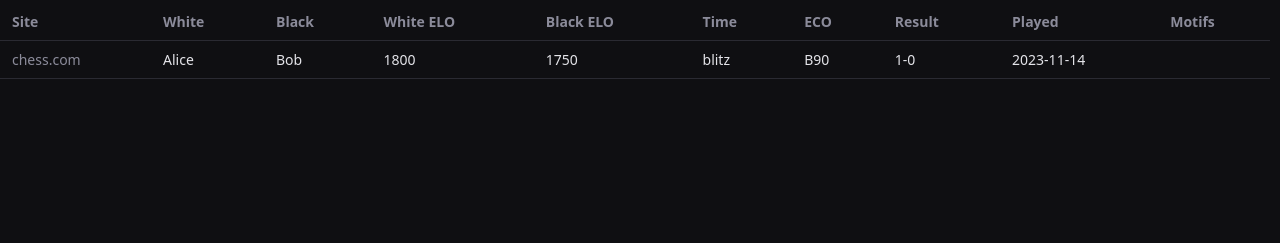
Test: GameResultsTable › returns focus to the toggle when the panel is closed
The width and height of the screenshot is (1280, 243).
Press Tab
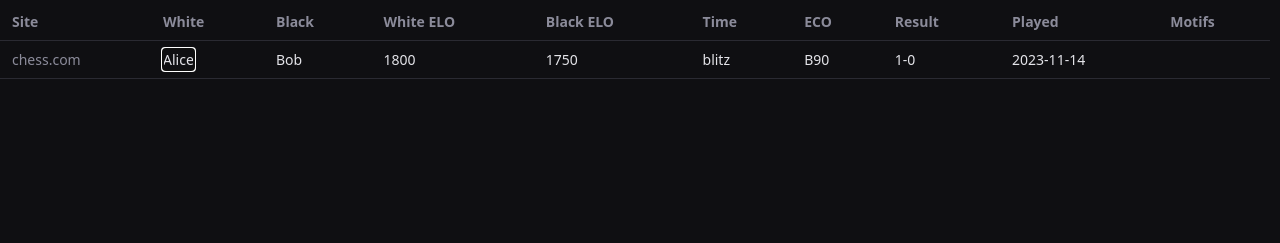
Press Enter
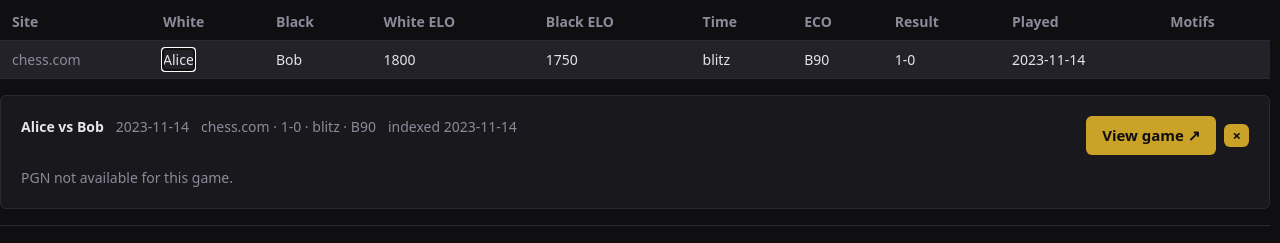
Click the button named "Close panel" at (1237, 135), box [1224,124,1249,146]
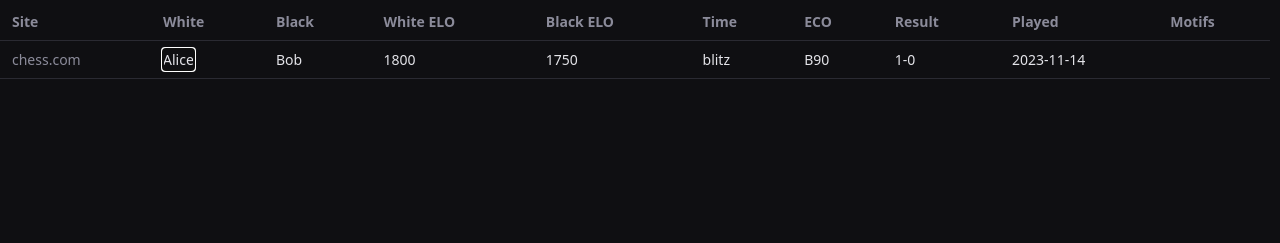
Result: the text "Alice vs Bob" is gone
